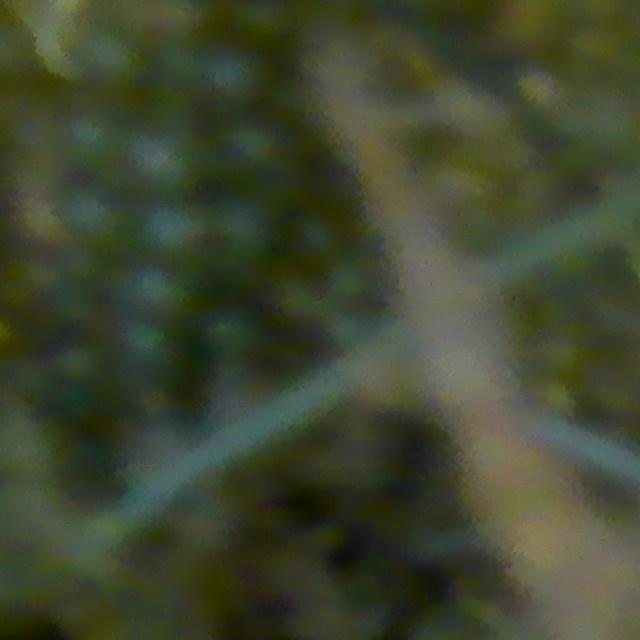SeaGrape: (206, 194, 275, 268), (115, 260, 186, 322), (58, 107, 124, 173), (139, 200, 208, 263), (57, 184, 123, 249), (126, 124, 190, 190), (115, 317, 174, 377)
